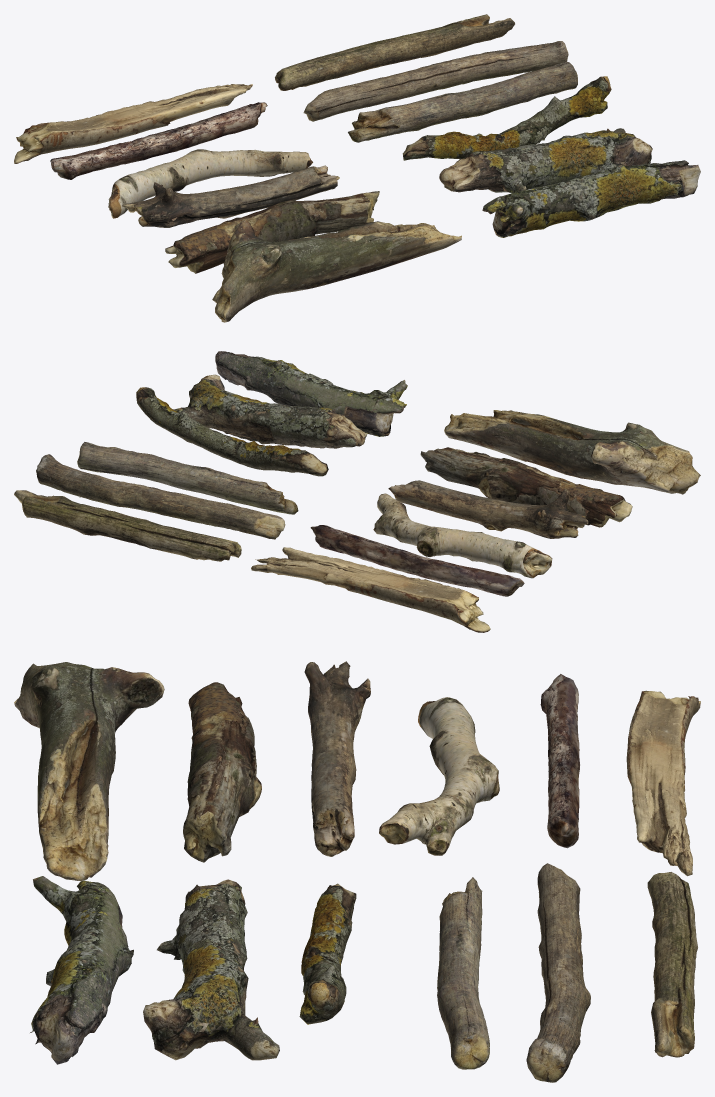
3 renders of one model, top to bottom at view 1: azimuth 30°, elevation 25°; view 2: azimuth 150°, elevation 25°; view 3: azimuth 270°, elevation 25°, orthographic. The views are drawn at different scales.
Parts seen in each view (by area): view 1: stick_07, stick_01, stick_02, stick_05, stick_08, stick_04, stick_12, stick_06, stick_09, stick_10, stick_03, stick_11; view 2: stick_07, stick_02, stick_08, stick_12, stick_01, stick_05, stick_06, stick_04, stick_09, stick_10, stick_03, stick_11; view 3: stick_07, stick_02, stick_01, stick_08, stick_12, stick_05, stick_10, stick_09, stick_06, stick_04, stick_03, stick_11.
Boxes of the visible parts, x1,y1,x2,y2 form: stick_07: (212,220,461,322); stick_01: (482,160,700,237); stick_02: (439,128,652,193); stick_05: (303,41,568,121); stick_08: (165,191,379,273); stick_04: (348,61,577,142); stick_12: (14,84,252,163); stick_06: (275,14,514,90); stick_09: (122,165,339,227); stick_10: (108,149,312,218); stick_03: (402,76,611,160); stick_11: (50,102,267,179); stick_07: (444,410,700,494); stick_02: (173,374,367,448); stick_08: (420,447,632,527); stick_12: (251,547,490,632); stick_01: (215,351,407,436); stick_05: (36,454,285,539); stick_06: (14,490,241,561); stick_04: (77,442,298,514); stick_09: (388,480,588,538); stick_10: (373,493,552,578); stick_03: (136,387,328,476); stick_11: (310,525,524,596); stick_07: (14,662,164,880); stick_02: (143,879,279,1060); stick_01: (30,876,133,1064); stick_08: (183,682,261,862); stick_12: (626,690,700,876); stick_05: (526,863,590,1082); stick_10: (379,697,499,855); stick_09: (304,661,370,856); stick_06: (647,872,697,1057); stick_04: (437,877,489,1069); stick_03: (299,883,356,1024); stick_11: (540,674,579,848).
Size of the model in its own units: 54.52 by 6.59 by 41.47.
Materials: 12 (12 with a texture image).
